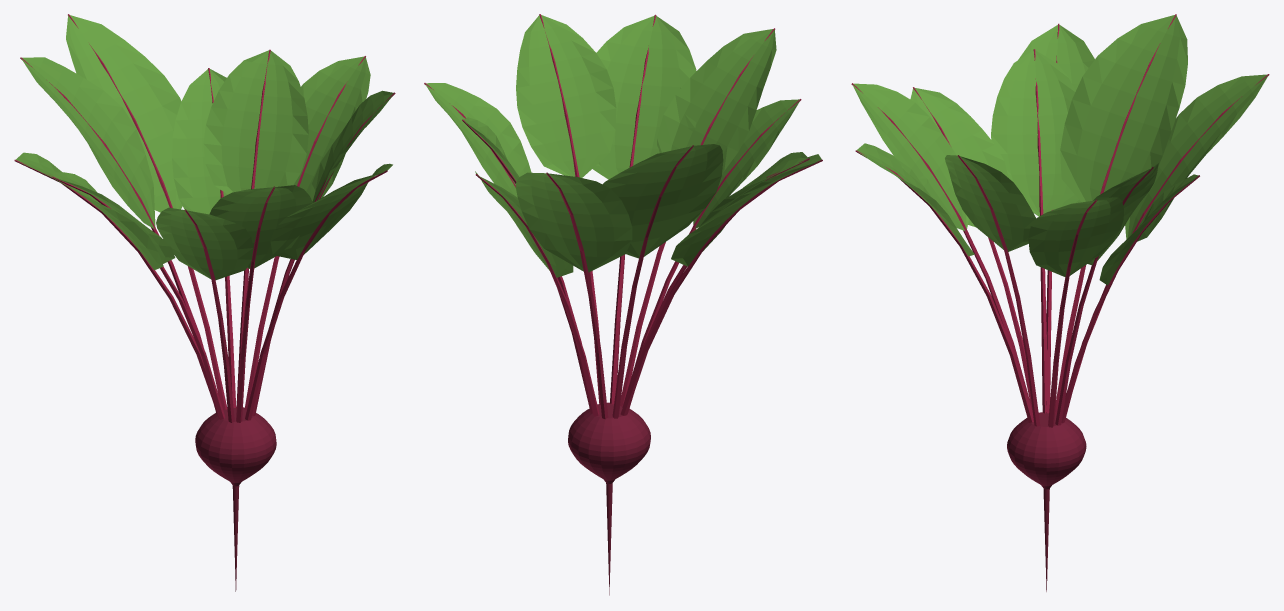
File: beetroot_harvest_v06.glb
3 views of the same model, side by side, from view 1: azimuth 30°, elevation 25°; view 2: azimuth 150°, elevation 25°; view 3: azimuth 270°, elevation 25° (orthographic). The views are drawn at different scales.
Parts seen in each view (by area): view 1: plant; view 2: plant; view 3: plant.
Boxes of the visible parts, x1,y1,x2,y2 form: plant: (14,14,395,591); plant: (424,14,822,595); plant: (851,14,1269,591).
Bounding box in the file's own units: 0.39 × 0.5299 × 0.3919.
1 material, 1 textured.
